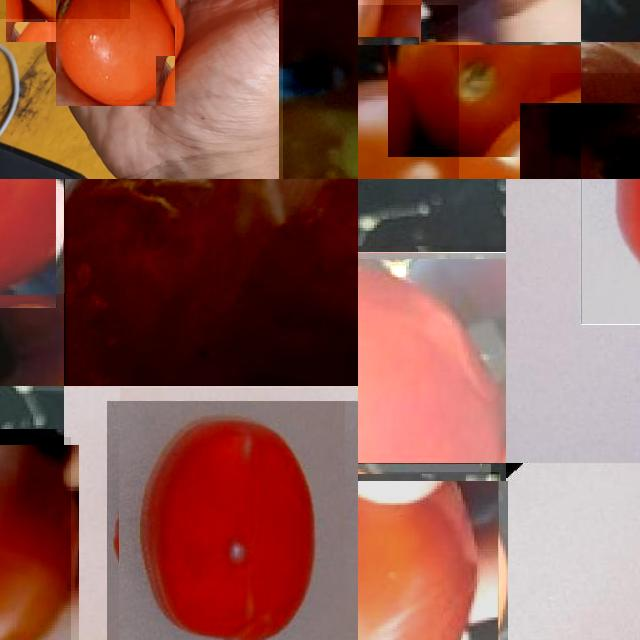Fresh Tomato: (107, 401, 358, 640), (358, 45, 581, 179), (358, 5, 458, 179), (51, 0, 179, 102)
Rotten Tomato: (64, 179, 358, 386), (358, 252, 506, 463), (358, 472, 499, 640), (283, 0, 358, 179)
